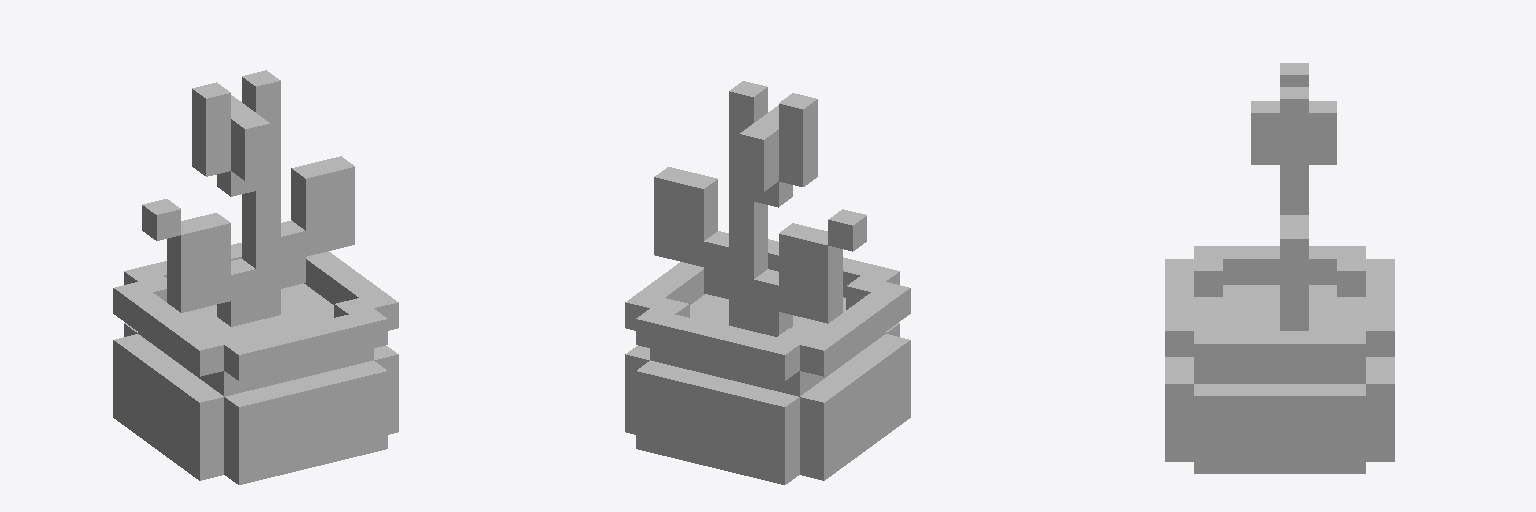
Rendered from flower 3.obj.
The picture shows the model from 3 angles: view 1: azimuth 30°, elevation 25°; view 2: azimuth 150°, elevation 25°; view 3: azimuth 270°, elevation 25°; orthographic projection.
Parts seen in each view (by area): view 1: object 1; view 2: object 1; view 3: object 1.
Part boxes in pixels (bbox=[...]): object 1: bbox=[113, 70, 398, 484]; object 1: bbox=[625, 81, 910, 484]; object 1: bbox=[1165, 63, 1394, 473].
Size of the model in its own units: 0.8 by 1.3 by 0.8.